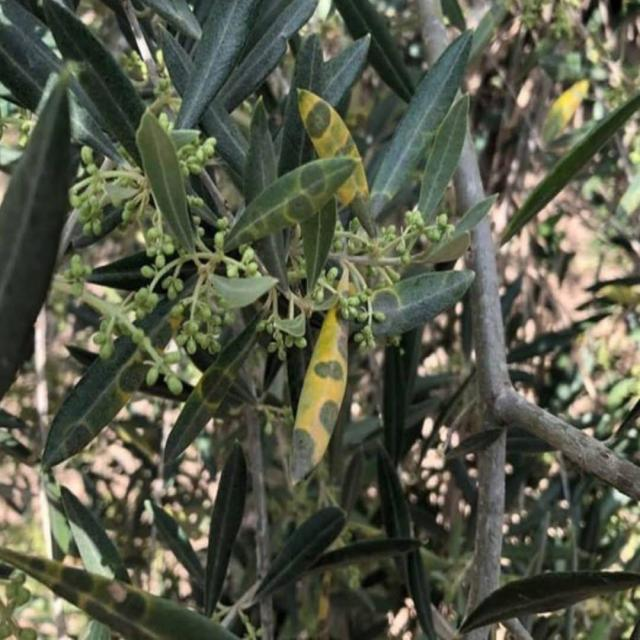Peacock Eye: (41, 281, 195, 468), (0, 548, 236, 639), (164, 308, 261, 467), (298, 89, 377, 238), (225, 159, 354, 248), (292, 304, 348, 479), (372, 270, 474, 337)
